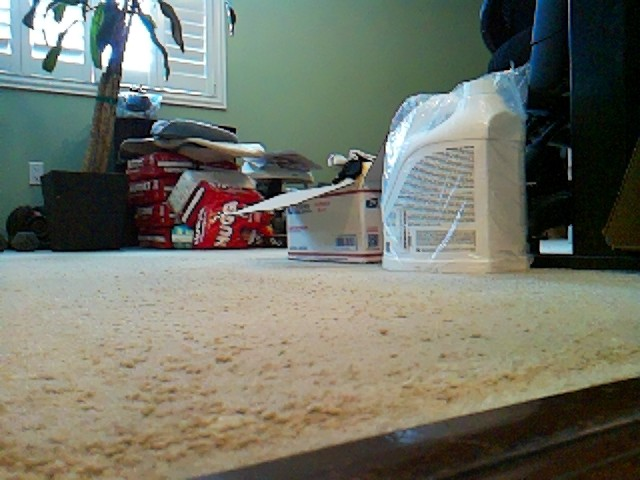Drivable Area: (275, 275, 640, 480), (2, 258, 281, 480)
Obstacle: (481, 0, 640, 276), (385, 91, 546, 274), (122, 131, 289, 244), (287, 187, 395, 265), (39, 173, 132, 247), (0, 206, 56, 253)
